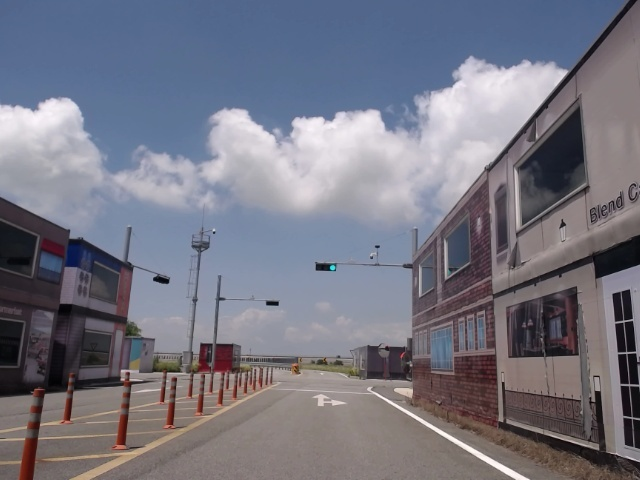green_3: (317, 264, 335, 271)
